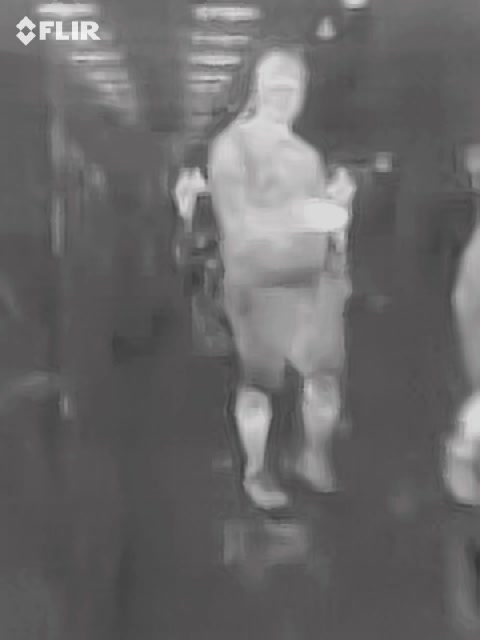head: (253, 48, 307, 126)
